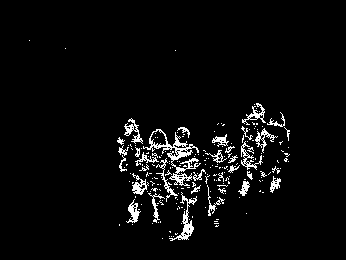person: (162, 123, 202, 242), (115, 116, 147, 227), (201, 122, 236, 218), (142, 125, 174, 225), (259, 108, 290, 194), (238, 100, 265, 198)
